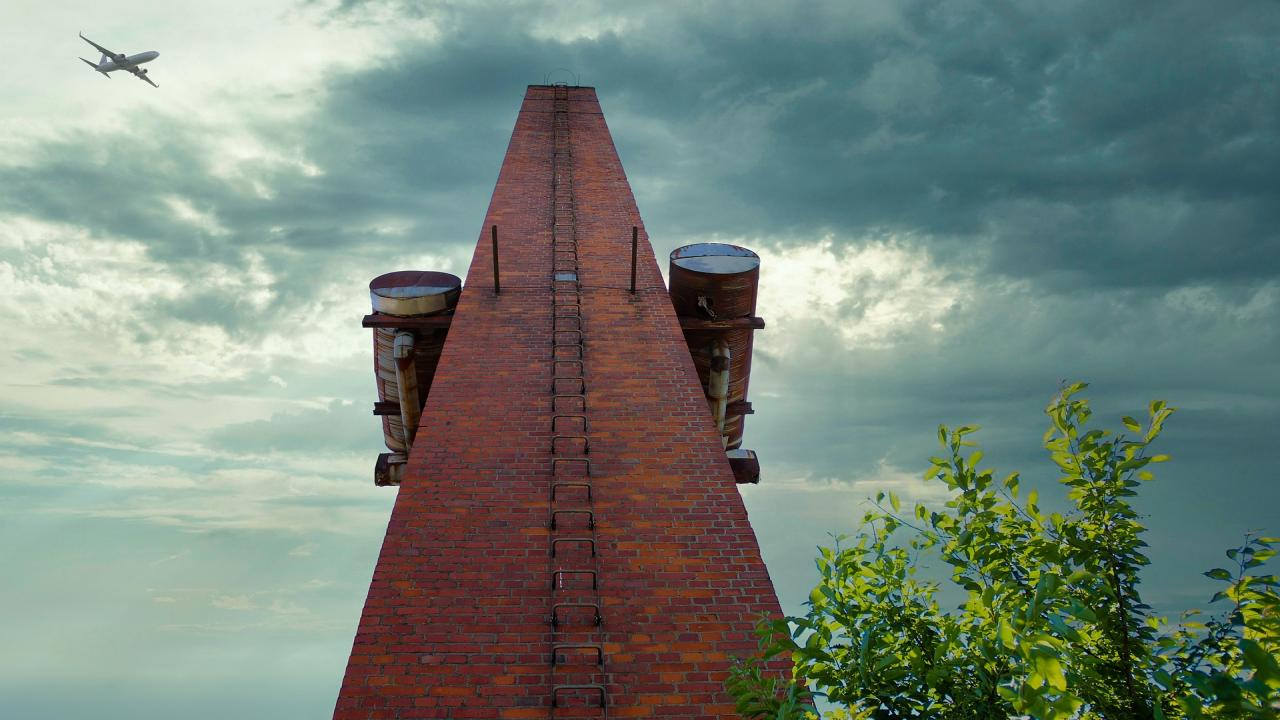Airplane: (70, 25, 174, 94)
